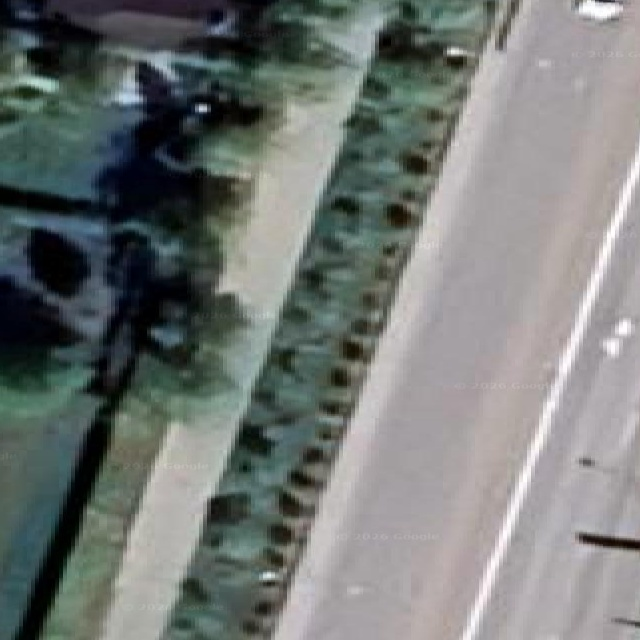car: (575, 0, 623, 20)
